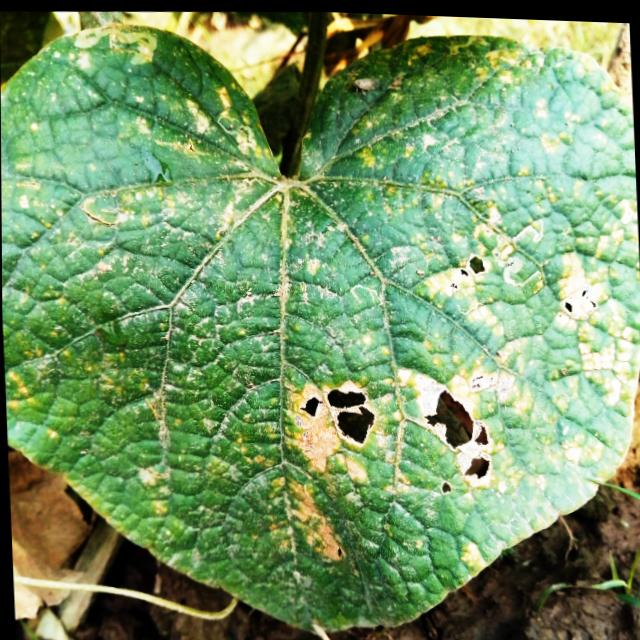Anthracnose: (422, 384, 495, 498), (295, 377, 379, 454), (456, 251, 492, 282)
